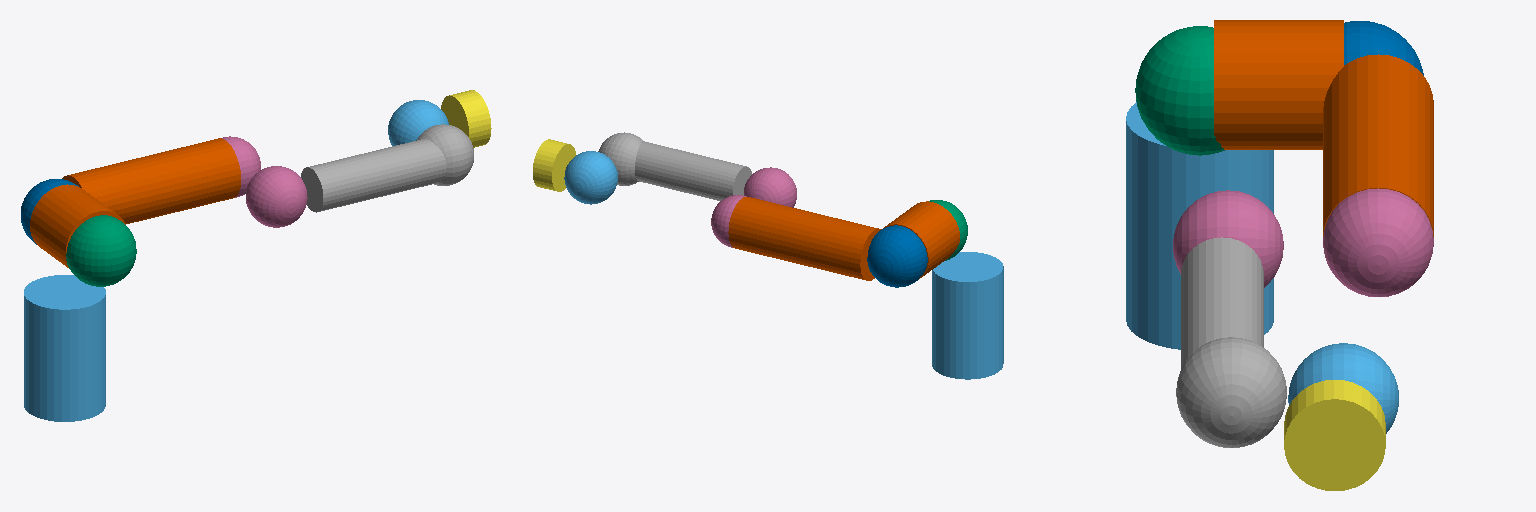
The robot description file, URDF, robot "sawyer":
<?xml version="1.0" ?>
<!-- =================================================================================== -->
<!-- |    This document was autogenerated by xacro from sawyer_base.urdf.xacro         | -->
<!-- |    EDITING THIS FILE BY HAND IS NOT RECOMMENDED                                 | -->
<!-- =================================================================================== -->
<robot name="sawyer" xmlns:xacro="http://www.ros.org/wiki/xacro">
  <material name="black">
    <color rgba="0 0 0 1"/>
  </material>
  <material name="darkgray">
    <color rgba=".2 .2 .2 1"/>
  </material>
  <material name="darkred">
    <color rgba=".5 .1 .1 1"/>
  </material>
  <material name="sawyer_red">
    <color rgba=".5 .1 .1 1"/>
  </material>
  <material name="sawyer_gray">
    <color rgba="0.75294 0.75294 0.75294 1"/>
  </material>
  <link name="base"/>
  <joint name="right_arm_mount" type="fixed">
    <origin rpy="0 0 0" xyz="0.0 0.0 0.0"/>
    <parent link="base"/>
    <child link="right_arm_base_link"/>
  </joint>
  <link name="right_arm_base_link">
    <inertial>
      <origin rpy="0 0 0" xyz="-0.0006241 -2.8025E-05 0.065404"/>
      <mass value="2.0687"/>
      <inertia ixx="0.0067599" ixy="-4.2024E-05" ixz="-6.1904E-07" iyy="0.0067877" iyz="1.5888E-05" izz="0.0074031"/>
    </inertial>
    <visual>
      <origin rpy="0 0 0" xyz="0 0 0"/>
      <geometry>
        <mesh filename="../meshes/sawyer_pv/base.DAE"/>
      </geometry>
      <material name="sawyer_red"/>
    </visual>
    <collision>
      <origin rpy="0 0 0" xyz="0 0 0.12"/>
      <geometry>
        <cylinder length="0.24" radius="0.08"/>
      </geometry>
    </collision>
    <visual>
      <origin rpy="0 0 0" xyz="0 0 0.12"/>
      <geometry>
        <cylinder length="0.24" radius="0.08"/>
      </geometry>
    </visual>
  </link>
  <link name="right_l0">
    <inertial>
      <origin rpy="0 0 0" xyz="0.024366 0.010969 0.14363"/>
      <mass value="5.3213"/>
      <inertia ixx="0.053314" ixy="0.0047093" ixz="0.011734" iyy="0.057902" iyz="0.0080179" izz="0.023659"/>
    </inertial>
    <visual>
      <origin rpy="0 0 0" xyz="0 0 0"/>
      <geometry>
        <mesh filename="../meshes/sawyer_mp3/l0.DAE"/>
      </geometry>
      <material name="sawyer_red"/>
    </visual>
    <collision>
      <origin rpy="0 0 0" xyz="0.08 0 0.23"/>
      <geometry>
        <sphere radius="0.07"/>
      </geometry>
    </collision>
    <visual>
      <origin rpy="0 0 0" xyz="0.08 0 0.23"/>
      <geometry>
        <sphere radius="0.07"/>
      </geometry>
    </visual>
  </link>
  <joint name="right_j0" type="revolute">
    <origin rpy="0 0 0" xyz="0 0 0.08"/>
    <parent link="right_arm_base_link"/>
    <child link="right_l0"/>
    <axis xyz="0 0 1"/>
    <limit effort="80.0" lower="-3.0503" upper="3.0503" velocity="1.74"/>
  </joint>
  <link name="right_torso_itb">
    <inertial>
      <origin rpy="0 0 0" xyz="0.000000 0.000000 0.000000"/>
      <mass value="0.0001"/>
      <inertia ixx="1e-08" ixy="0" ixz="0" iyy="1e-08" iyz="0" izz="1e-08"/>
    </inertial>
  </link>
  <joint name="right_torso_itb" type="fixed">
    <origin rpy="0 -1.57079632679 0" xyz="-.055 0 .22"/>
    <parent link="right_l0"/>
    <child link="right_torso_itb"/>
    <axis xyz="0 0 1"/>
  </joint>
  <link name="right_l1">
    <inertial>
      <origin rpy="0 0 0" xyz="-0.0030849 -0.026811 0.092521"/>
      <mass value="4.505"/>
      <inertia ixx="0.022398" ixy="-0.00023986" ixz="-0.00029362" iyy="0.014613" iyz="-0.0060875" izz="0.017295"/>
    </inertial>
    <visual>
      <origin rpy="0 0 0" xyz="0 0 0"/>
      <geometry>
        <mesh filename="../meshes/sawyer_mp3/l1.DAE"/>
      </geometry>
      <material name="sawyer_red"/>
    </visual>
    <collision>
      <origin rpy="0 0 0" xyz="0 0 0.1225"/>
      <geometry>
        <sphere radius="0.07"/>
      </geometry>
    </collision>
    <visual>
      <origin rpy="0 0 0" xyz="0 0 0.1225"/>
      <geometry>
        <sphere radius="0.07"/>
      </geometry>
    </visual>
  </link>
  <joint name="right_j1" type="revolute">
    <origin rpy="-1.57079632679 1.57079632679 0" xyz="0.081 0.05 0.237"/>
    <parent link="right_l0"/>
    <child link="right_l1"/>
    <axis xyz="0 0 1"/>
    <limit effort="80.0" lower="-3.8095" upper="2.2736" velocity="1.328"/>
  </joint>
  <link name="right_l2">
    <inertial>
      <origin rpy="0 0 0" xyz="-0.00016044 -0.014967 0.13582"/>
      <mass value="1.745"/>
      <inertia ixx="0.025506" ixy="4.4101E-06" ixz="1.4955E-05" iyy="0.0253" iyz="-0.0033204" izz="0.0034179"/>
    </inertial>
    <visual>
      <origin rpy="0 0 0" xyz="0 0 0"/>
      <geometry>
        <mesh filename="../meshes/sawyer_pv/l2.DAE"/>
      </geometry>
      <material name="sawyer_red"/>
    </visual>
    <collision>
      <origin rpy="0 0 0" xyz="0 0 0.08"/>
      <geometry>
        <cylinder length="0.34" radius="0.06"/>
      </geometry>
    </collision>
    <visual>
      <origin rpy="0 0 0" xyz="0 0 0.08"/>
      <geometry>
        <cylinder length="0.34" radius="0.06"/>
      </geometry>
    </visual>
  </link>
  <joint name="right_j2" type="revolute">
    <origin rpy="1.57079632679 0 0" xyz="0 -0.14 0.1425"/>
    <parent link="right_l1"/>
    <child link="right_l2"/>
    <axis xyz="0 0 1"/>
    <limit effort="40.0" lower="-3.0426" upper="3.0426" velocity="1.957"/>
  </joint>
  <link name="right_l3">
    <inertial>
      <origin rpy="0 0 0" xyz="-0.0048135 -0.0281 -0.084154"/>
      <mass value="2.5097"/>
      <inertia ixx="0.01016" ixy="-9.7452E-06" ixz="0.00026624" iyy="0.0065685" iyz="0.0030316" izz="0.0069078"/>
    </inertial>
    <visual>
      <origin rpy="0 0 0" xyz="0 0 0"/>
      <geometry>
        <mesh filename="../meshes/sawyer_pv/l3.DAE"/>
      </geometry>
      <material name="sawyer_red"/>
    </visual>
    <collision>
      <origin rpy="0 0 0" xyz="0 -0.01 -0.12"/>
      <geometry>
        <sphere radius="0.06"/>
      </geometry>
    </collision>
    <visual>
      <origin rpy="0 0 0" xyz="0 -0.01 -0.12"/>
      <geometry>
        <sphere radius="0.06"/>
      </geometry>
    </visual>
  </link>
  <joint name="right_j3" type="revolute">
    <origin rpy="-1.57079632679 0 0" xyz="0 -0.042 0.26"/>
    <parent link="right_l2"/>
    <child link="right_l3"/>
    <axis xyz="0 0 1"/>
    <limit effort="40.0" lower="-3.0439" upper="3.0439" velocity="1.957"/>
  </joint>
  <link name="right_l4">
    <inertial>
      <origin rpy="0 0 0" xyz="-0.0018844 0.0069001 0.1341"/>
      <mass value="1.1136"/>
      <inertia ixx="0.013557" ixy="1.8109E-05" ixz="0.00013523" iyy="0.013555" iyz="0.0010561" izz="0.0013658"/>
    </inertial>
    <visual>
      <origin rpy="0 0 0" xyz="0 0 0"/>
      <geometry>
        <mesh filename="../meshes/sawyer_pv/l4.DAE"/>
      </geometry>
      <material name="sawyer_red"/>
    </visual>
    <collision>
      <origin rpy="0 0 0" xyz="0 0 0.11"/>
      <geometry>
        <cylinder length="0.30" radius="0.045"/>
      </geometry>
    </collision>
    <visual>
      <origin rpy="0 0 0" xyz="0 0 0.11"/>
      <geometry>
        <cylinder length="0.30" radius="0.045"/>
      </geometry>
    </visual>
  </link>
  <joint name="right_j4" type="revolute">
    <origin rpy="1.57079632679 0 0" xyz="0 -0.125 -0.1265"/>
    <parent link="right_l3"/>
    <child link="right_l4"/>
    <axis xyz="0 0 1"/>
    <limit effort="9.0" lower="-2.9761" upper="2.9761" velocity="3.485"/>
  </joint>
  <link name="right_arm_itb">
    <inertial>
      <origin rpy="0 0 0" xyz="0.000000 0.000000 0.000000"/>
      <mass value="0.0001"/>
      <inertia ixx="1e-08" ixy="0" ixz="0" iyy="1e-08" iyz="0" izz="1e-08"/>
    </inertial>
  </link>
  <joint name="right_arm_itb" type="fixed">
    <origin rpy="0 -1.57079632679 0" xyz="-.055 0 .075"/>
    <parent link="right_l4"/>
    <child link="right_arm_itb"/>
    <axis xyz="0 0 1"/>
  </joint>
  <link name="right_l5">
    <inertial>
      <origin rpy="0 0 0" xyz="0.0061133 -0.023697 0.076416"/>
      <mass value="1.5625"/>
      <inertia ixx="0.0047328" ixy="0.00011526" ixz="4.6269E-05" iyy="0.0029676" iyz="-0.0011557" izz="0.0031762"/>
    </inertial>
    <visual>
      <origin rpy="0 0 0" xyz="0 0 0"/>
      <geometry>
        <mesh filename="../meshes/sawyer_pv/l5.DAE"/>
      </geometry>
      <material name="sawyer_red"/>
    </visual>
    <collision>
      <origin rpy="0 0 0" xyz="0 0 0.1"/>
      <geometry>
        <sphere radius="0.06"/>
      </geometry>
    </collision>
    <visual>
      <origin rpy="0 0 0" xyz="0 0 0.1"/>
      <geometry>
        <sphere radius="0.06"/>
      </geometry>
    </visual>
  </link>
  <joint name="right_j5" type="revolute">
    <origin rpy="-1.57079632679 0 0" xyz="0 0.031 0.275"/>
    <parent link="right_l4"/>
    <child link="right_l5"/>
    <axis xyz="0 0 1"/>
    <limit effort="9.0" lower="-2.9761" upper="2.9761" velocity="3.485"/>
  </joint>
  <link name="right_wrist"/>
  <joint name="right_wrist" type="fixed">
    <origin rpy="1.57079632679 0 0" xyz="0 0 0.10541"/>
    <parent link="right_l5"/>
    <child link="right_wrist"/>
    <axis xyz="0 0 0"/>
  </joint>
  <link name="right_l6">
    <inertial>
      <origin rpy="0 0 0" xyz="-8.0726E-06 0.0085838 -0.0049566"/>
      <mass value="0.3292"/>
      <inertia ixx="0.00031105" ixy="1.4771E-06" ixz="-3.7074E-07" iyy="0.00021549" iyz="-8.4533E-06" izz="0.00035976"/>
    </inertial>
    <visual>
      <origin rpy="0 0 0" xyz="0 0 0"/>
      <geometry>
        <mesh filename="../meshes/sawyer_mp1/l6.DAE"/>
      </geometry>
      <material name="sawyer_red"/>
    </visual>
    <collision>
      <origin rpy="0 0 0" xyz="0 0.015 -0.01"/>
      <geometry>
        <cylinder length="0.05" radius="0.055"/>
      </geometry>
    </collision>
    <visual>
      <origin rpy="0 0 0" xyz="0 0.015 -0.01"/>
      <geometry>
        <cylinder length="0.05" radius="0.055"/>
      </geometry>
    </visual>
  </link>
  <joint name="right_j6" type="revolute">
    <origin rpy="-1.57079632679 -0.17453 3.1416" xyz="0 -0.11 0.1053"/>
    <parent link="right_l5"/>
    <child link="right_l6"/>
    <axis xyz="0 0 1"/>
    <limit effort="9.0" lower="-4.7124" upper="4.7124" velocity="4.545"/>
  </joint>
  <link name="right_hand">
    <inertial>
      <origin rpy="0 0 0" xyz="1.0E-08 1.0E-08 1.0E-08"/>
      <mass value="1.0E-08"/>
      <inertia ixx="1.0E-08" ixy="1.0E-08" ixz="1.0E-08" iyy="1.0E-08" iyz="1.0E-08" izz="1.0E-08"/>
    </inertial>
  </link>
  <joint name="right_hand" type="fixed">
    <origin rpy="0 0 1.570796" xyz="0 0 0.0245"/>
    <axis xyz="0 0 1"/>
    <parent link="right_l6"/>
    <child link="right_hand"/>
  </joint>
  <link name="right_l1_2">
    <inertial>
      <origin rpy="0 0 0" xyz="1.0E-08 1.0E-08 1.0E-08"/>
      <mass value="1.0E-08"/>
      <inertia ixx="1.0E-08" ixy="1.0E-08" ixz="1.0E-08" iyy="1.0E-08" iyz="1.0E-08" izz="1.0E-08"/>
    </inertial>
    <collision>
      <origin rpy="0 0 0" xyz="0 0 0.035"/>
      <geometry>
        <cylinder length="0.14" radius="0.07"/>
      </geometry>
    </collision>
    <visual>
      <origin rpy="0 0 0" xyz="0 0 0.035"/>
      <geometry>
        <cylinder length="0.14" radius="0.07"/>
      </geometry>
    </visual>
  </link>
  <joint name="right_j1_2" type="fixed">
    <origin rpy="0 0 0" xyz="0 0 0"/>
    <parent link="right_l1"/>
    <child link="right_l1_2"/>
    <axis xyz="0 0 1"/>
  </joint>
  <link name="right_l2_2">
    <inertial>
      <origin rpy="0 0 0" xyz="1.0E-08 1.0E-08 1.0E-08"/>
      <mass value="1.0E-08"/>
      <inertia ixx="1.0E-08" ixy="1.0E-08" ixz="1.0E-08" iyy="1.0E-08" iyz="1.0E-08" izz="1.0E-08"/>
    </inertial>
    <collision>
      <origin rpy="0 0 0" xyz="0 0 0.26"/>
      <geometry>
        <sphere radius="0.06"/>
      </geometry>
    </collision>
    <visual>
      <origin rpy="0 0 0" xyz="0 0 0.26"/>
      <geometry>
        <sphere radius="0.06"/>
      </geometry>
    </visual>
  </link>
  <joint name="right_j2_2" type="fixed">
    <origin rpy="0 0 0" xyz="0 0 0"/>
    <parent link="right_l2"/>
    <child link="right_l2_2"/>
    <axis xyz="0 0 1"/>
  </joint>
  <link name="right_l4_2">
    <inertial>
      <origin rpy="0 0 0" xyz="1.0E-08 1.0E-08 1.0E-08"/>
      <mass value="1.0E-08"/>
      <inertia ixx="1.0E-08" ixy="1.0E-08" ixz="1.0E-08" iyy="1.0E-08" iyz="1.0E-08" izz="1.0E-08"/>
    </inertial>
    <collision>
      <origin rpy="0 0 0" xyz="0 0.01 0.26"/>
      <geometry>
        <sphere radius="0.06"/>
      </geometry>
    </collision>
    <visual>
      <origin rpy="0 0 0" xyz="0 0.01 0.26"/>
      <geometry>
        <sphere radius="0.06"/>
      </geometry>
    </visual>
  </link>
  <joint name="right_j4_2" type="fixed">
    <origin rpy="0 0 0" xyz="0 0 0"/>
    <parent link="right_l4"/>
    <child link="right_l4_2"/>
    <axis xyz="0 0 1"/>
  </joint>
</robot>

--- What the picture shows (computed from the rendered views, not written in the file) ---
The picture shows the robot from 3 angles, left to right: view 1: azimuth 30°, elevation 25°; view 2: azimuth 150°, elevation 25°; view 3: azimuth 270°, elevation 25°; orthographic projection.
Model sawyer with 16 links and 15 joints (7 revolute, 8 fixed), rooted at base, posed all joints at 0.
Links seen in each view (by area): view 1: right_arm_base_link, right_l2, right_l4, right_l0, right_l1_2, right_l3, right_l6, right_l4_2, right_l5, right_l2_2, right_l1; view 2: right_arm_base_link, right_l2, right_l4, right_l1, right_l1_2, right_l5, right_l6, right_l3, right_l4_2, right_l2_2, right_l0; view 3: right_arm_base_link, right_l1_2, right_l2, right_l4_2, right_l2_2, right_l6, right_l0, right_l4, right_l3, right_l5, right_l1.
Link boxes in pixels (bbox=[...]): right_arm_base_link: bbox=[24, 275, 105, 421]; right_l2: bbox=[62, 138, 240, 223]; right_l4: bbox=[301, 139, 446, 212]; right_l0: bbox=[66, 215, 136, 286]; right_l1_2: bbox=[30, 184, 125, 267]; right_l3: bbox=[246, 166, 307, 227]; right_l6: bbox=[441, 90, 491, 147]; right_l4_2: bbox=[416, 124, 473, 185]; right_l5: bbox=[388, 100, 448, 145]; right_l2_2: bbox=[222, 136, 260, 197]; right_l1: bbox=[21, 179, 78, 244]; right_arm_base_link: bbox=[932, 252, 1003, 379]; right_l2: bbox=[728, 197, 881, 280]; right_l4: bbox=[635, 141, 751, 200]; right_l1: bbox=[867, 225, 927, 287]; right_l1_2: bbox=[883, 201, 959, 278]; right_l5: bbox=[564, 151, 617, 204]; right_l6: bbox=[533, 139, 575, 191]; right_l3: bbox=[744, 167, 796, 207]; right_l4_2: bbox=[598, 132, 642, 185]; right_l2_2: bbox=[711, 195, 746, 247]; right_l0: bbox=[929, 200, 967, 260]; right_arm_base_link: bbox=[1126, 102, 1273, 349]; right_l1_2: bbox=[1214, 20, 1343, 149]; right_l2: bbox=[1323, 54, 1433, 236]; right_l4_2: bbox=[1176, 337, 1286, 447]; right_l2_2: bbox=[1323, 188, 1433, 296]; right_l6: bbox=[1284, 380, 1385, 490]; right_l0: bbox=[1135, 26, 1224, 155]; right_l4: bbox=[1181, 237, 1263, 368]; right_l3: bbox=[1173, 190, 1283, 287]; right_l5: bbox=[1288, 343, 1398, 433]; right_l1: bbox=[1344, 21, 1423, 75].
Bounding box of the posed robot: 1.09 × 0.3325 × 0.387 m (x, y, z).
Meshes: 8 distinct files referenced, 0 mesh visuals loaded (none loaded); not drawn: 8 (reference not matched to a file when rendering).
